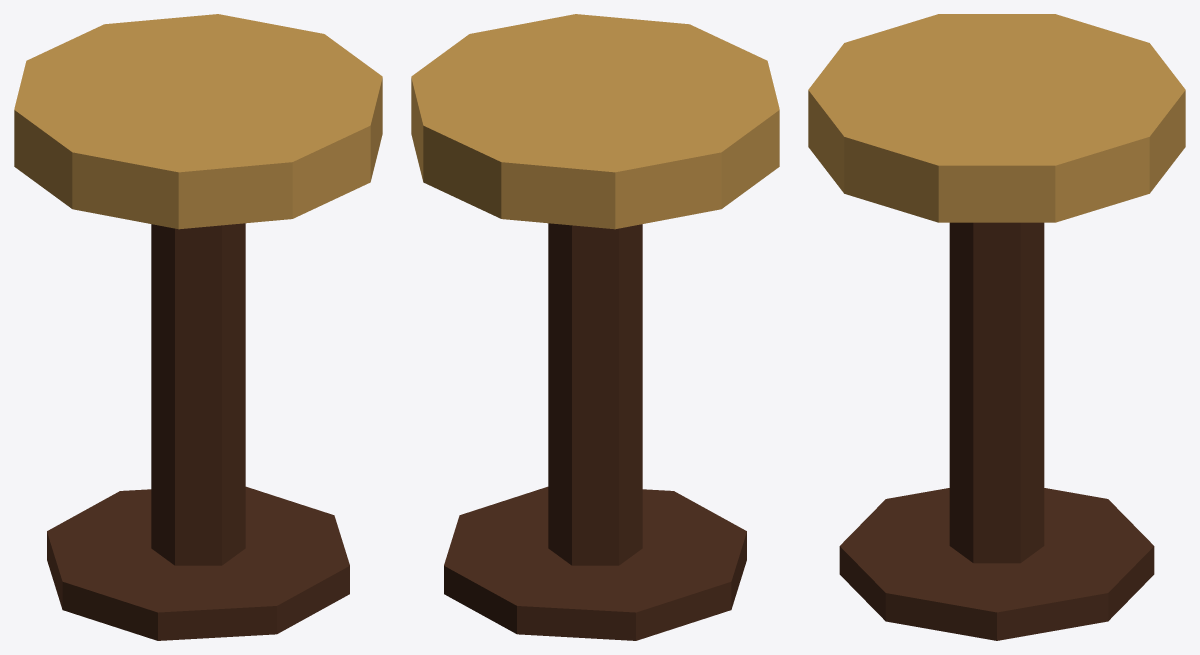
The model's file is stool.gltf.
3 views of the same model, side by side, from view 1: azimuth 30°, elevation 25°; view 2: azimuth 150°, elevation 25°; view 3: azimuth 270°, elevation 25° (orthographic).
Parts seen in each view (by area): view 1: seat, leg, foot; view 2: seat, leg, foot; view 3: seat, leg, foot.
Boxes of the visible parts, x1,y1,x2,y2 form: seat: (14,14,382,229); leg: (151,223,245,565); foot: (47,486,349,640); seat: (411,14,779,229); leg: (548,223,642,565); foot: (444,486,746,640); seat: (808,14,1185,222); leg: (949,222,1044,563); foot: (839,488,1154,640).
Bounding box in the file's own units: 0.4566 × 0.68 × 0.48.
